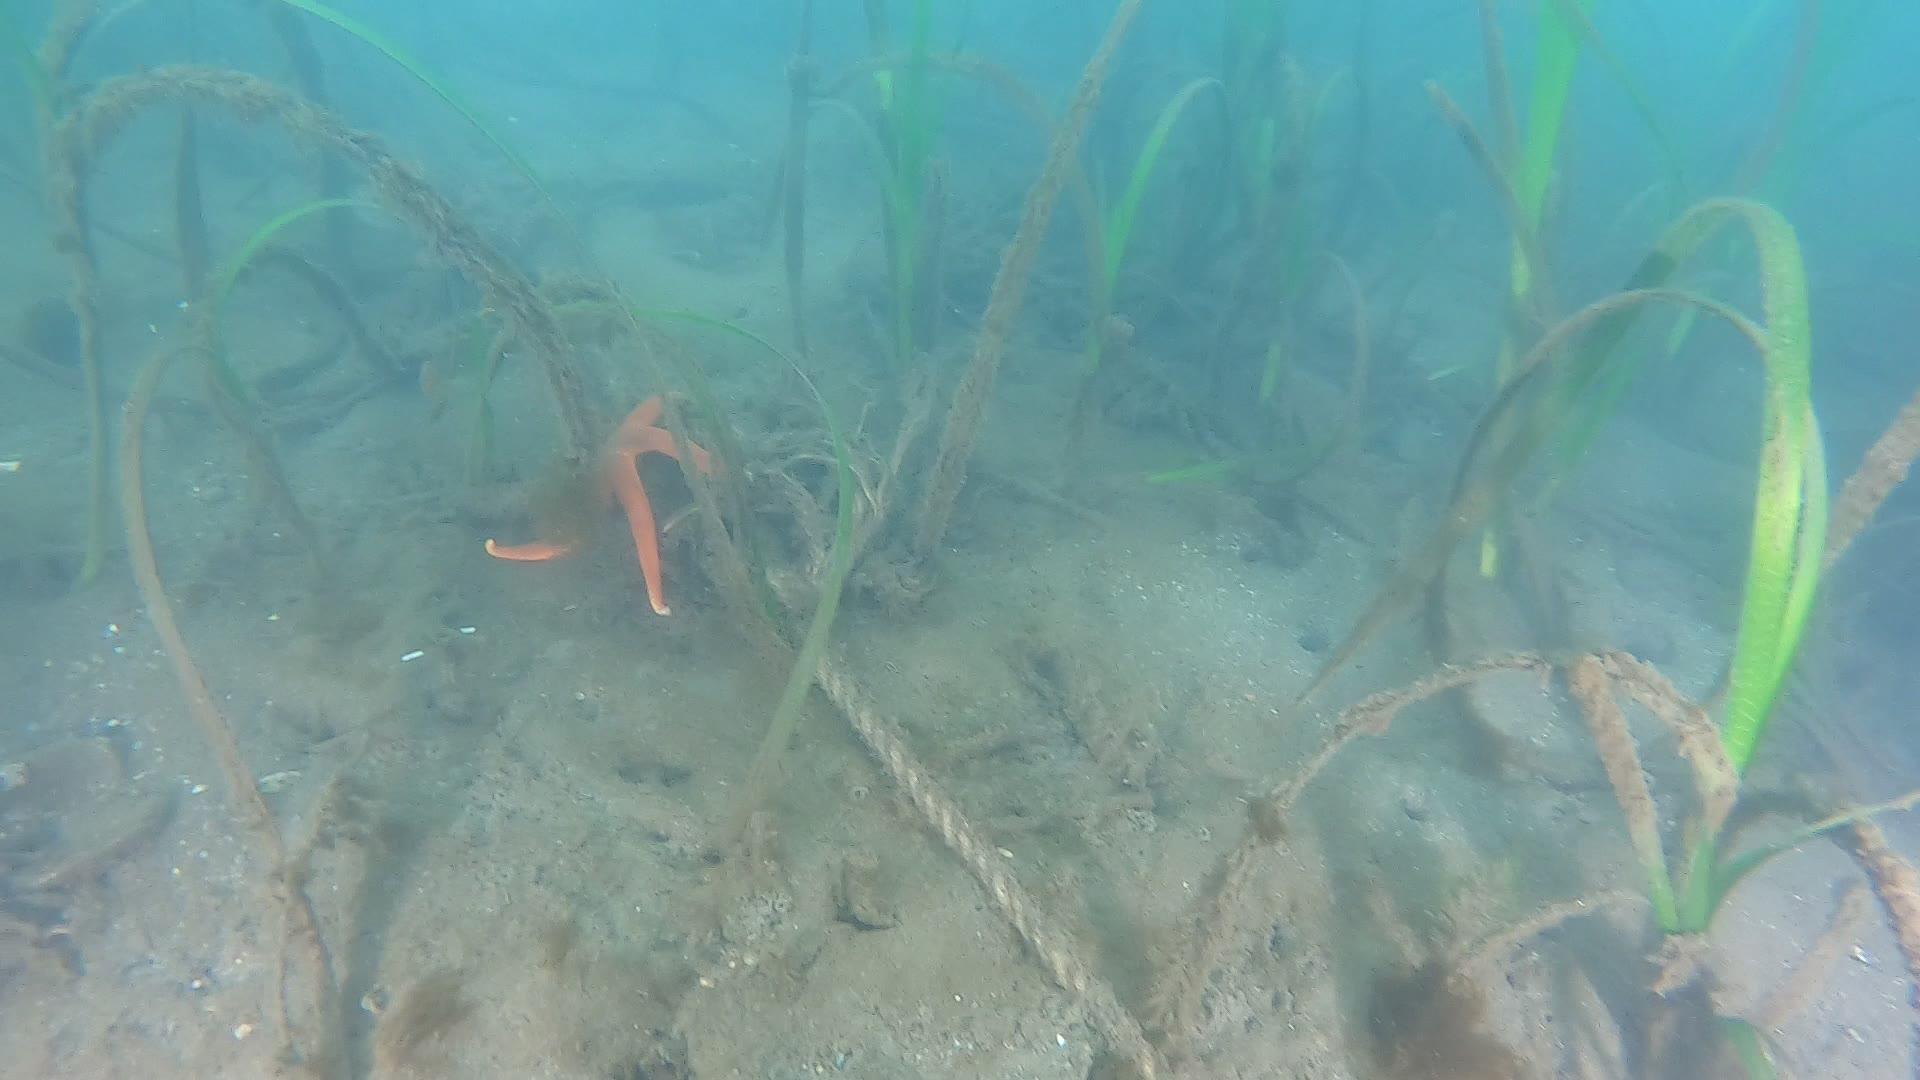rope: (807, 655, 1185, 1080)
